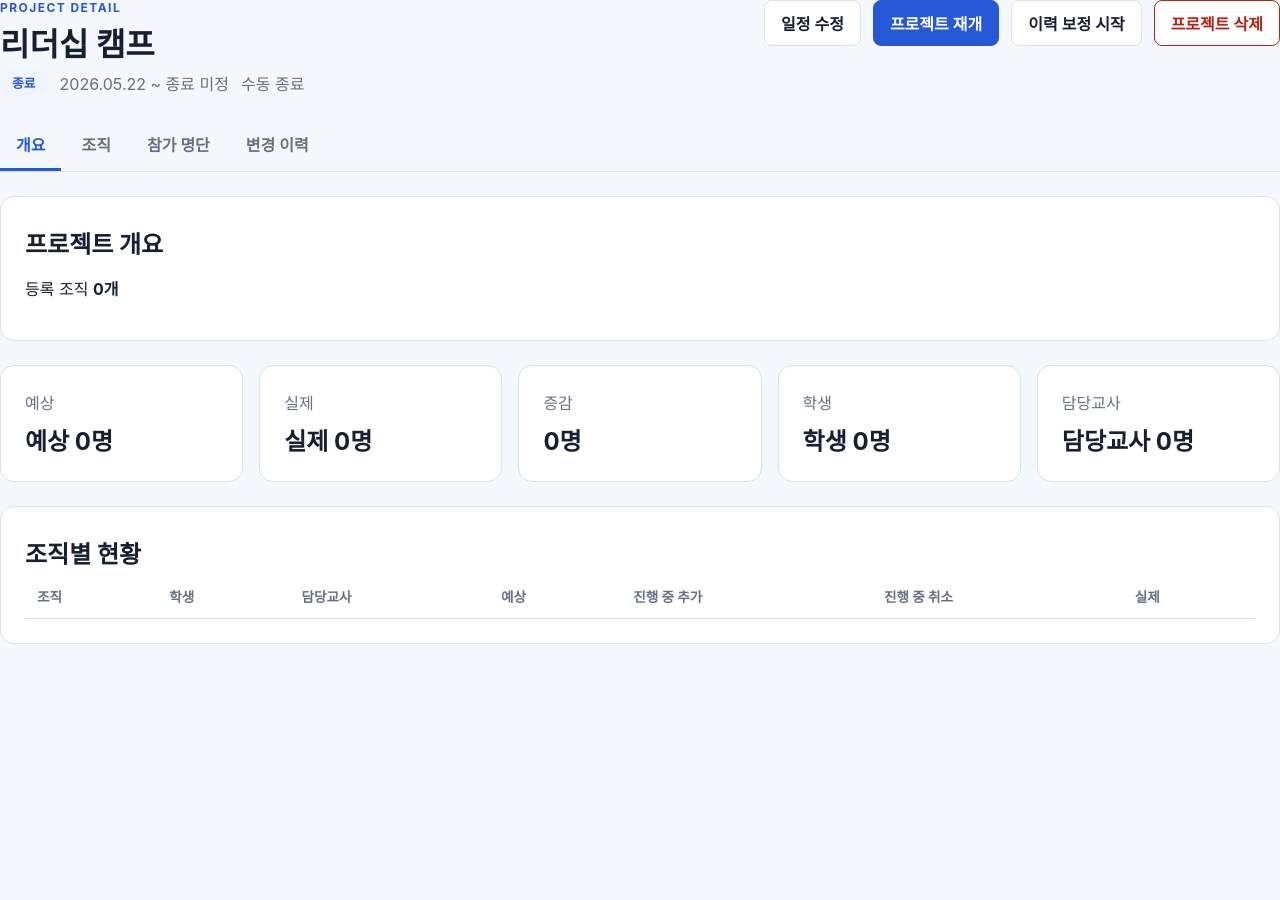
reloads a stale project deletion and closes its dialog
Click the button "프로젝트 삭제" at x=1217, y=23, box [1154,0,1279,46]
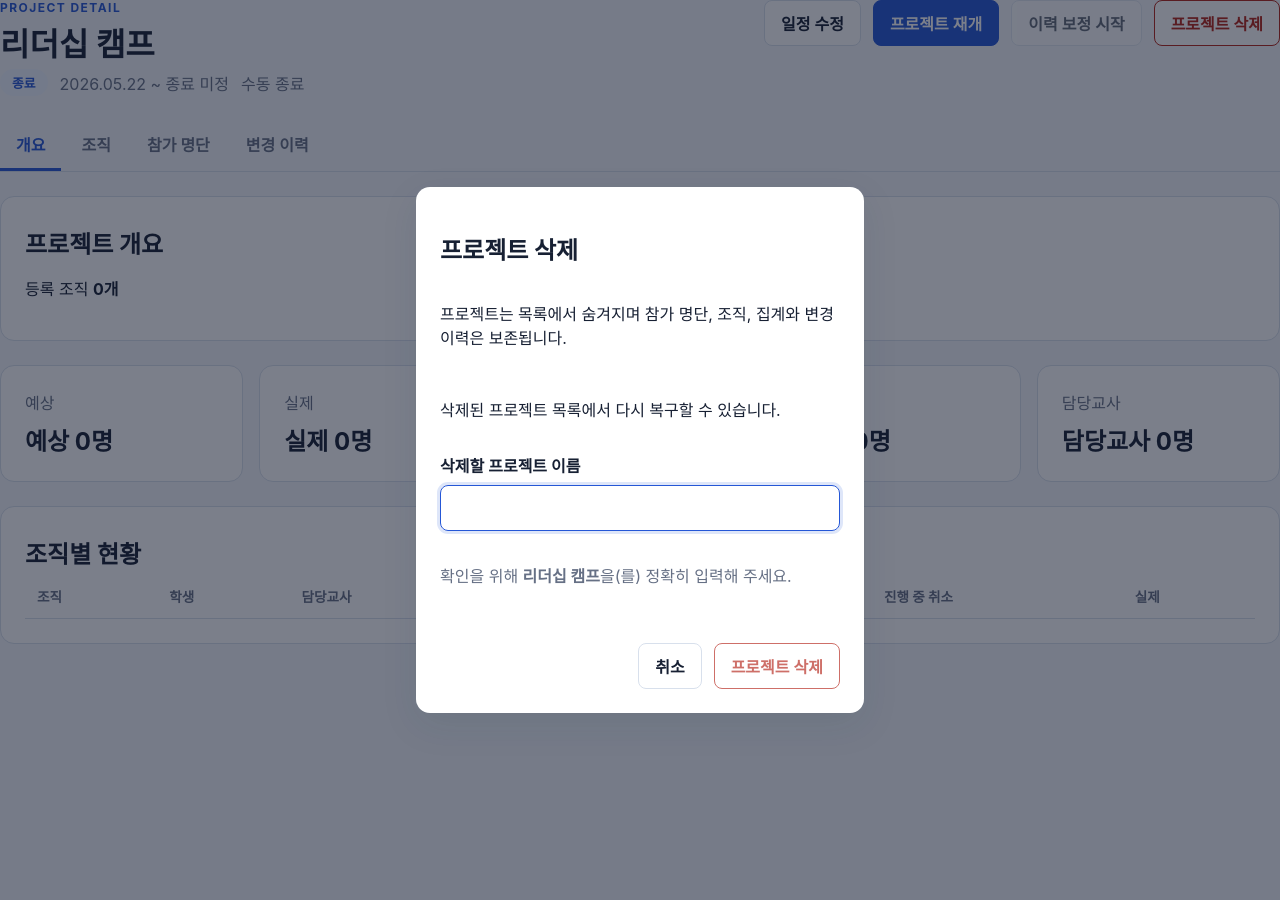
Type "리더십 캠프" into the field labelled "삭제할 프로젝트 이름" at x=640, y=508, box [440,485,840,531]
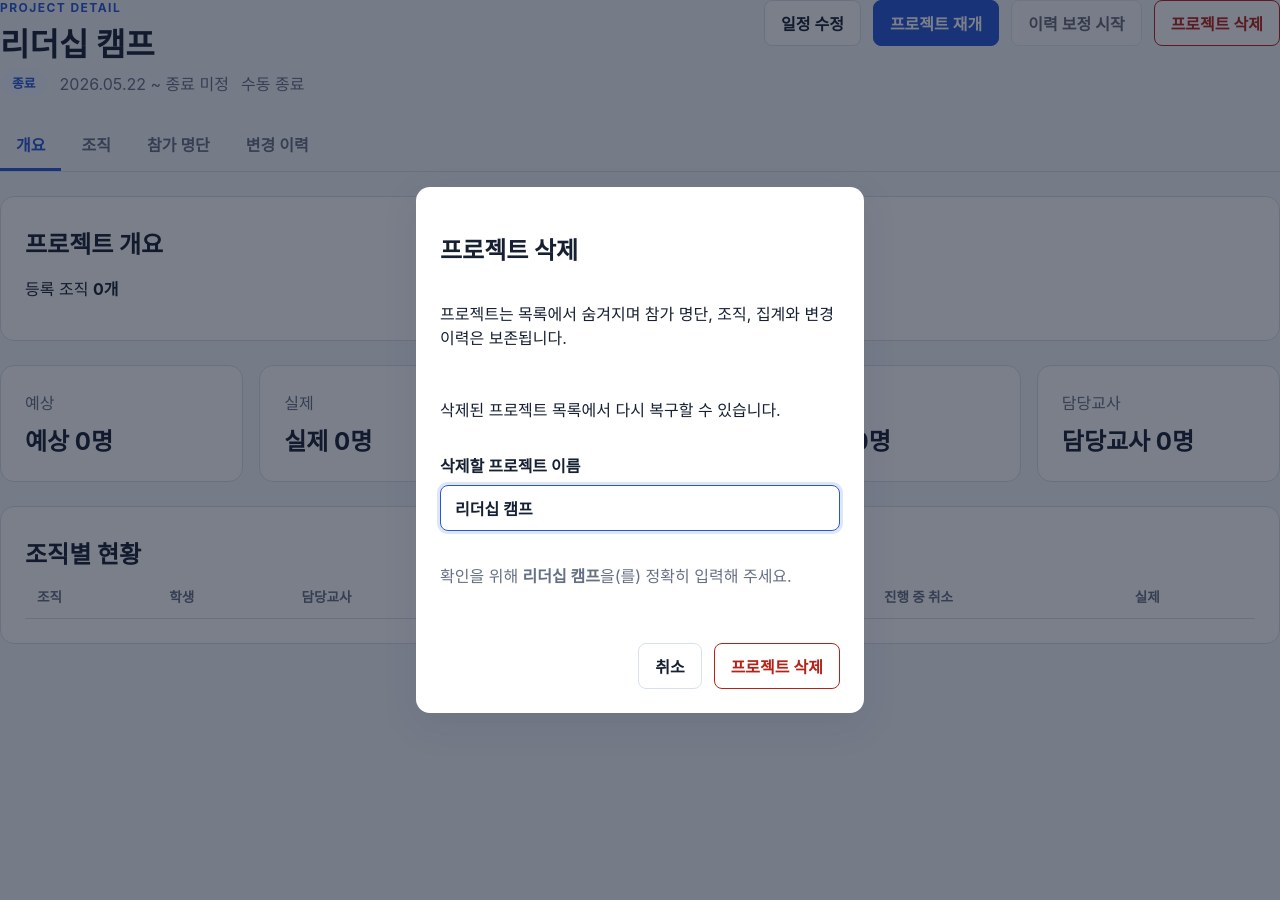
Click the button "프로젝트 삭제" at x=777, y=666, box [714,643,840,689]
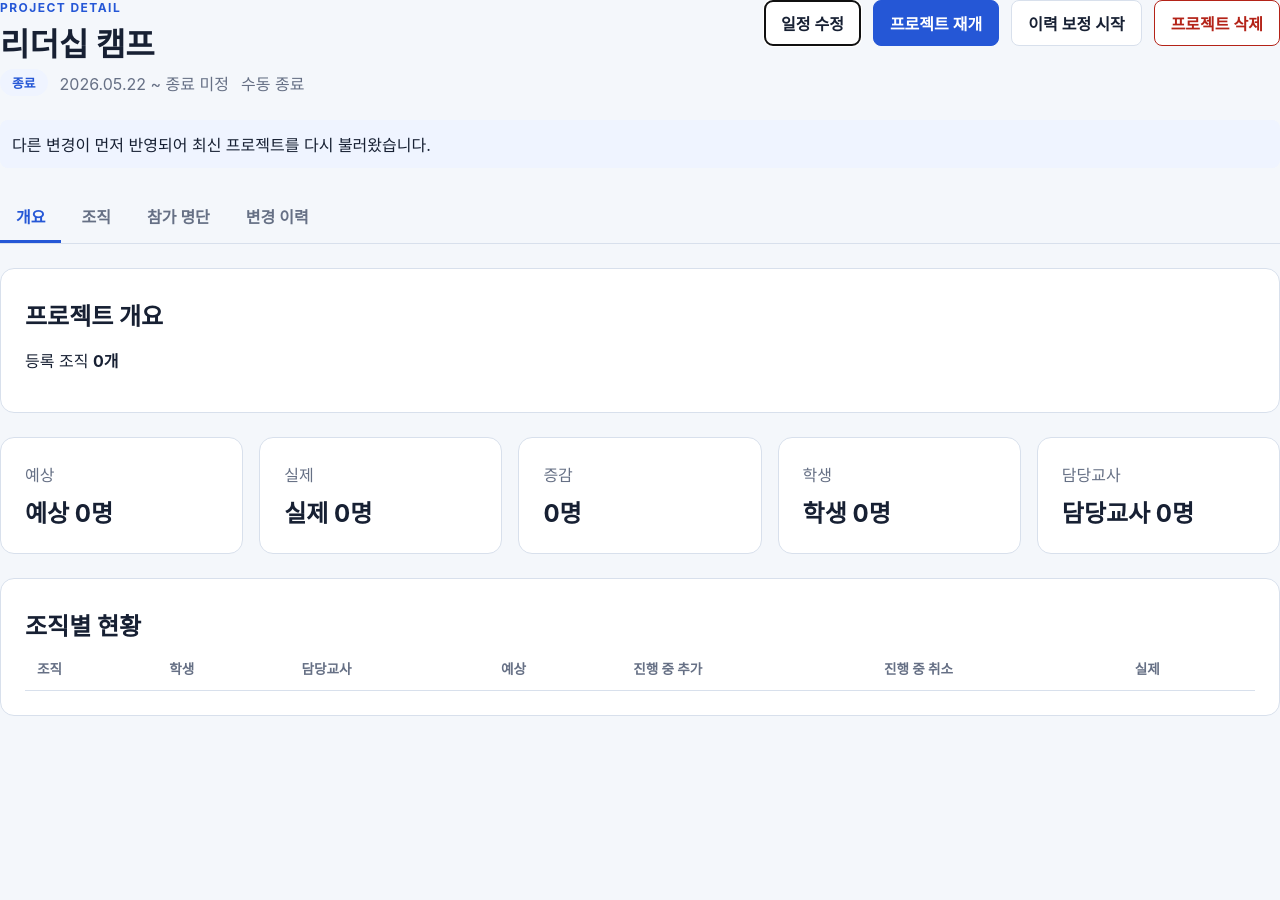
Expected: the text "다른 변경이 먼저 반영되어 최신 프로젝트를 다시 불러왔습니다." is shown, [0,120,1279,168]
